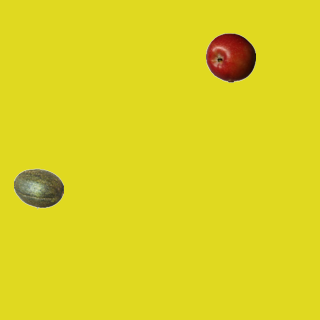Apple Braeburn: (205, 32, 255, 82)
Melon Piel de Sapo: (13, 163, 63, 213)
